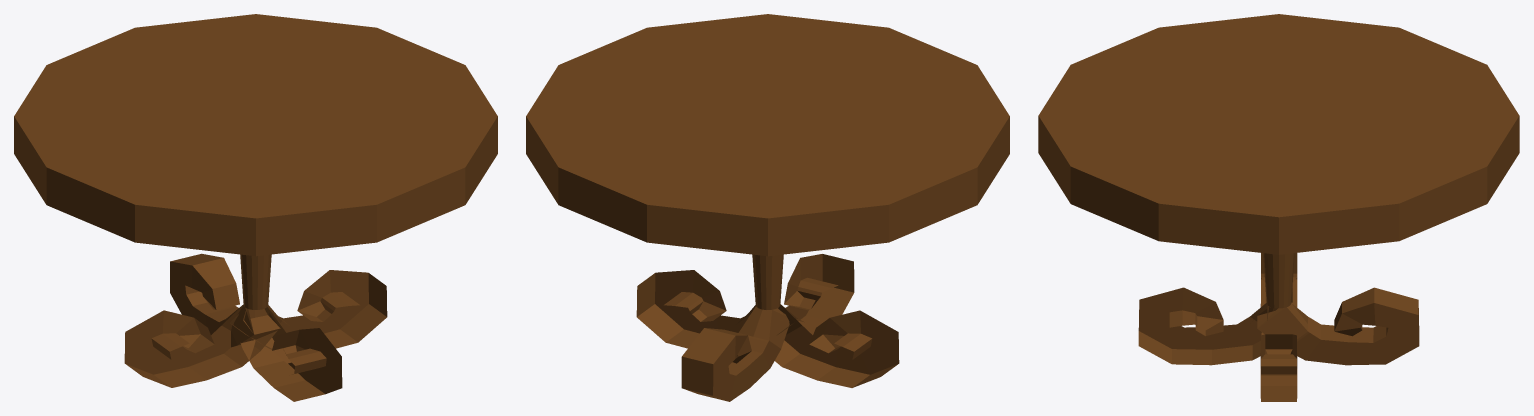
Rendered from LowPolyTableShattered.glb.
3 renders of one model, left to right at view 1: azimuth 30°, elevation 25°; view 2: azimuth 150°, elevation 25°; view 3: azimuth 270°, elevation 25°, orthographic.
Visible parts, largest first — view 1: Cylinder, Cube, Table; view 2: Cylinder, Cube, Table; view 3: Cylinder, Cube, Table.
Part boxes in pixels (left/top/right/bottom): Cylinder: left=14, top=14, right=497, bottom=256; Cube: left=124, top=253, right=387, bottom=401; Table: left=240, top=254, right=271, bottom=309; Cylinder: left=526, top=14, right=1009, bottom=256; Cube: left=636, top=254, right=899, bottom=401; Table: left=752, top=254, right=783, bottom=309; Cylinder: left=1038, top=14, right=1519, bottom=254; Cube: left=1138, top=253, right=1419, bottom=401; Table: left=1263, top=253, right=1294, bottom=308.
Bounding box in the file's own units: 261 × 145 × 261.
